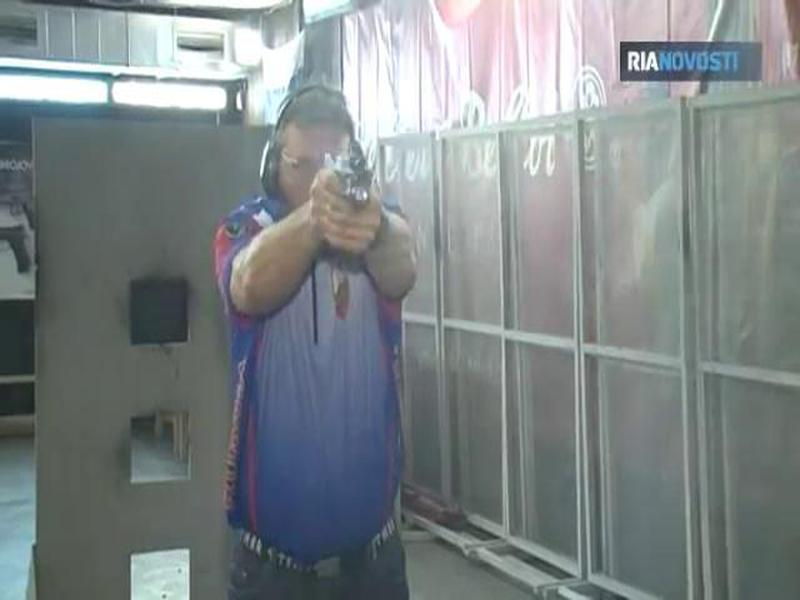Pistola: (313, 140, 389, 232)
